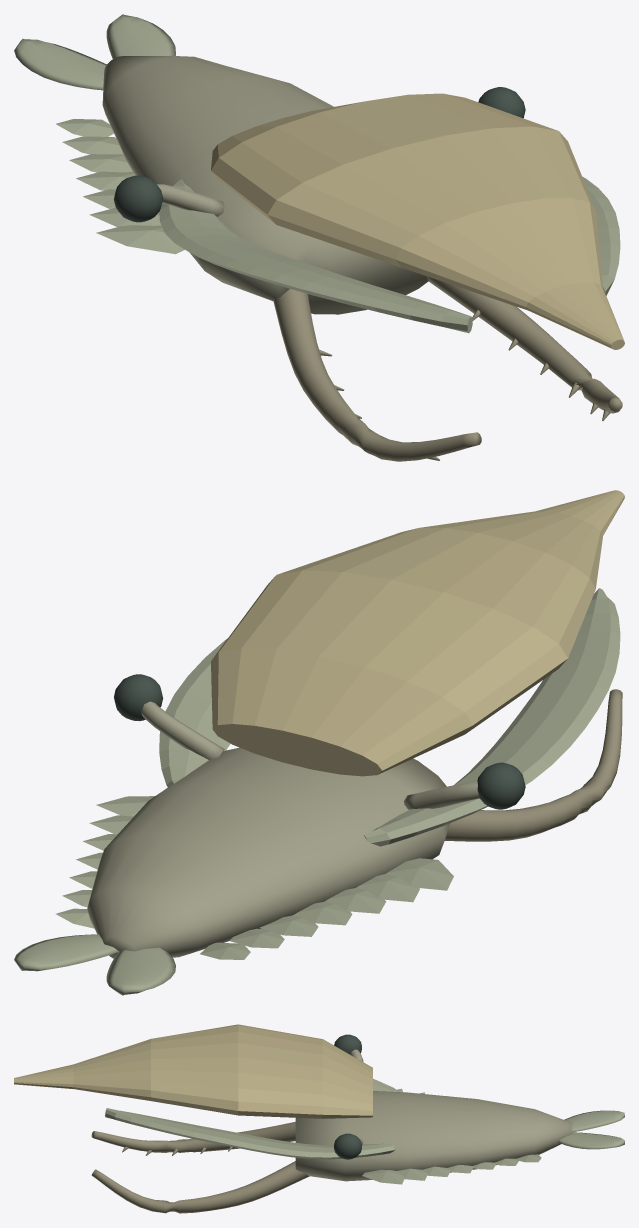
Rendered from hurdia.glb.
The picture shows the model from 3 angles, top to bottom: view 1: azimuth 30°, elevation 25°; view 2: azimuth 150°, elevation 25°; view 3: azimuth 270°, elevation 25°; orthographic projection. The views are drawn at different scales.
Visible parts, largest first — view 1: projecting-triangular-central-H-carapace, short-soft-posterior-trunk, ventral-curved-rake-appendages-with-economic-teeth, paired-lateral-paddle-P-carapace-elements, short-trunk-triangular-swimming-flaps, two-rounded-terminal-tail-lobes, short-stalked-eyes-at-rear-carapace-notches; view 2: projecting-triangular-central-H-carapace, short-soft-posterior-trunk, paired-lateral-paddle-P-carapace-elements, short-trunk-triangular-swimming-flaps, short-stalked-eyes-at-rear-carapace-notches, ventral-curved-rake-appendages-with-economic-teeth, two-rounded-terminal-tail-lobes; view 3: projecting-triangular-central-H-carapace, short-soft-posterior-trunk, ventral-curved-rake-appendages-with-economic-teeth, paired-lateral-paddle-P-carapace-elements, two-rounded-terminal-tail-lobes, short-trunk-triangular-swimming-flaps, short-stalked-eyes-at-rear-carapace-notches.
Boxes of the visible parts, x1=… form: projecting-triangular-central-H-carapace: x1=211, y1=93, x2=624, y2=349; short-soft-posterior-trunk: x1=102, y1=56, x2=428, y2=314; ventral-curved-rake-appendages-with-economic-teeth: x1=273, y1=276, x2=622, y2=461; paired-lateral-paddle-P-carapace-elements: x1=159, y1=176, x2=620, y2=333; short-trunk-triangular-swimming-flaps: x1=56, y1=119, x2=184, y2=254; two-rounded-terminal-tail-lobes: x1=14, y1=14, x2=175, y2=90; short-stalked-eyes-at-rear-carapace-notches: x1=114, y1=87, x2=525, y2=222; projecting-triangular-central-H-carapace: x1=211, y1=490, x2=624, y2=776; short-soft-posterior-trunk: x1=87, y1=747, x2=449, y2=958; paired-lateral-paddle-P-carapace-elements: x1=159, y1=588, x2=620, y2=846; short-trunk-triangular-swimming-flaps: x1=56, y1=796, x2=453, y2=959; short-stalked-eyes-at-rear-carapace-notches: x1=114, y1=674, x2=525, y2=809; ventral-curved-rake-appendages-with-economic-teeth: x1=444, y1=689, x2=622, y2=841; two-rounded-terminal-tail-lobes: x1=14, y1=934, x2=175, y2=995; projecting-triangular-central-H-carapace: x1=14, y1=1024, x2=372, y2=1118; short-soft-posterior-trunk: x1=295, y1=1091, x2=572, y2=1181; ventral-curved-rake-appendages-with-economic-teeth: x1=91, y1=1121, x2=309, y2=1213; paired-lateral-paddle-P-carapace-elements: x1=105, y1=1079, x2=399, y2=1159; two-rounded-terminal-tail-lobes: x1=558, y1=1110, x2=624, y2=1149; short-trunk-triangular-swimming-flaps: x1=362, y1=1088, x2=541, y2=1184; short-stalked-eyes-at-rear-carapace-notches: x1=334, y1=1034, x2=363, y2=1159.
Size of the model in its own units: 0.0771 by 0.0432 by 0.18.
